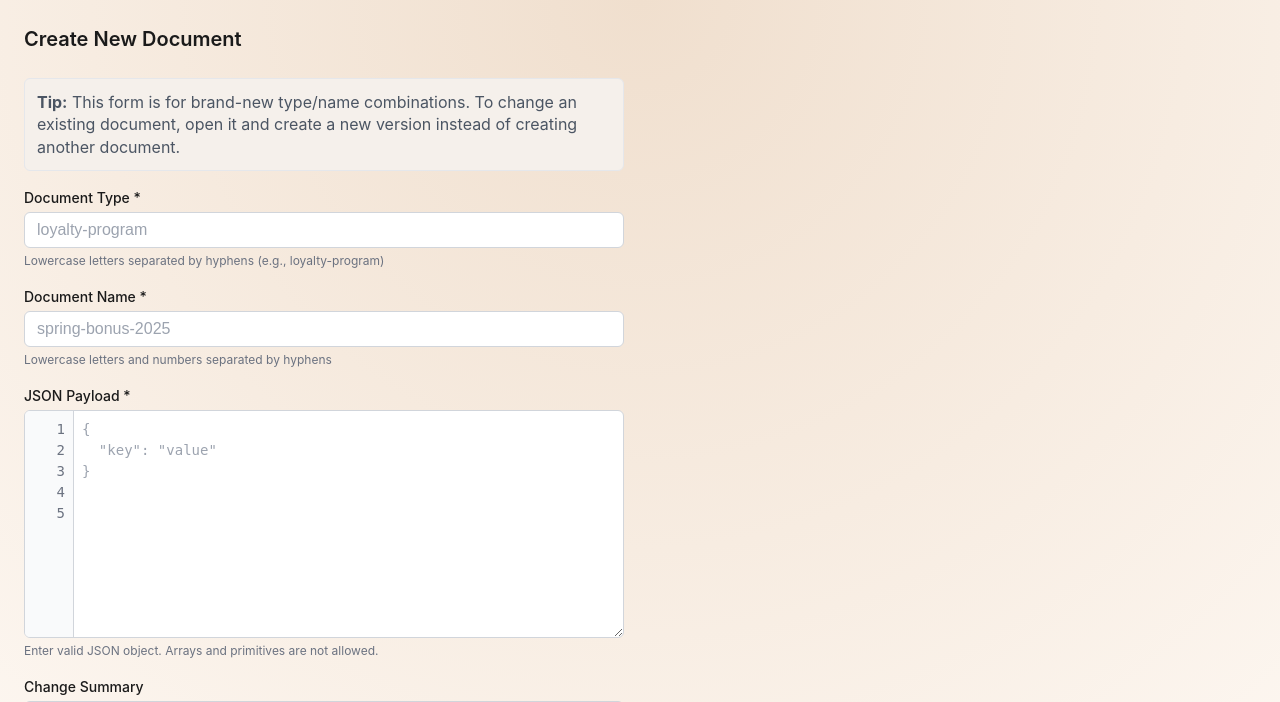
CreateDocumentForm › field validation - document type (kebab-case) › shows error for invalid type format - uppercase letters
The width and height of the screenshot is (1280, 702).
Type "InvalidType" into the field labelled "Document Type *" at (324, 230), box [24,212,624,248]
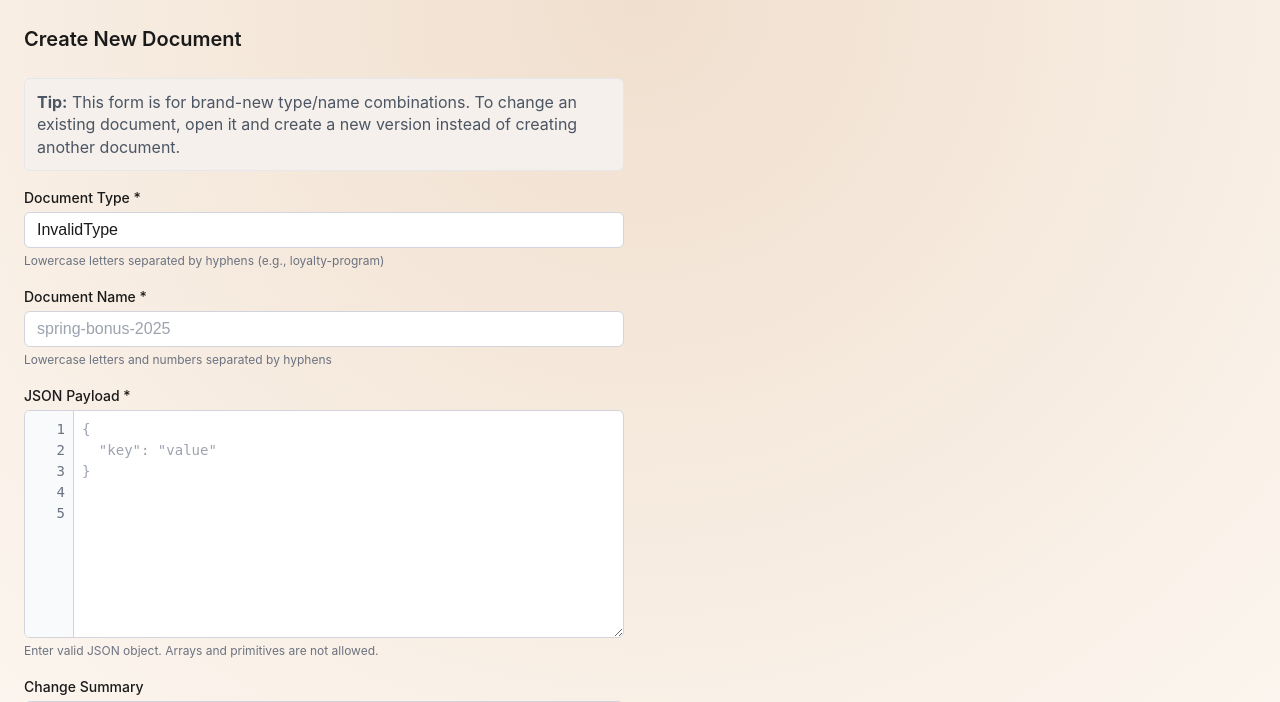
Leave the field labelled "Document Type *", box [24,212,624,248]
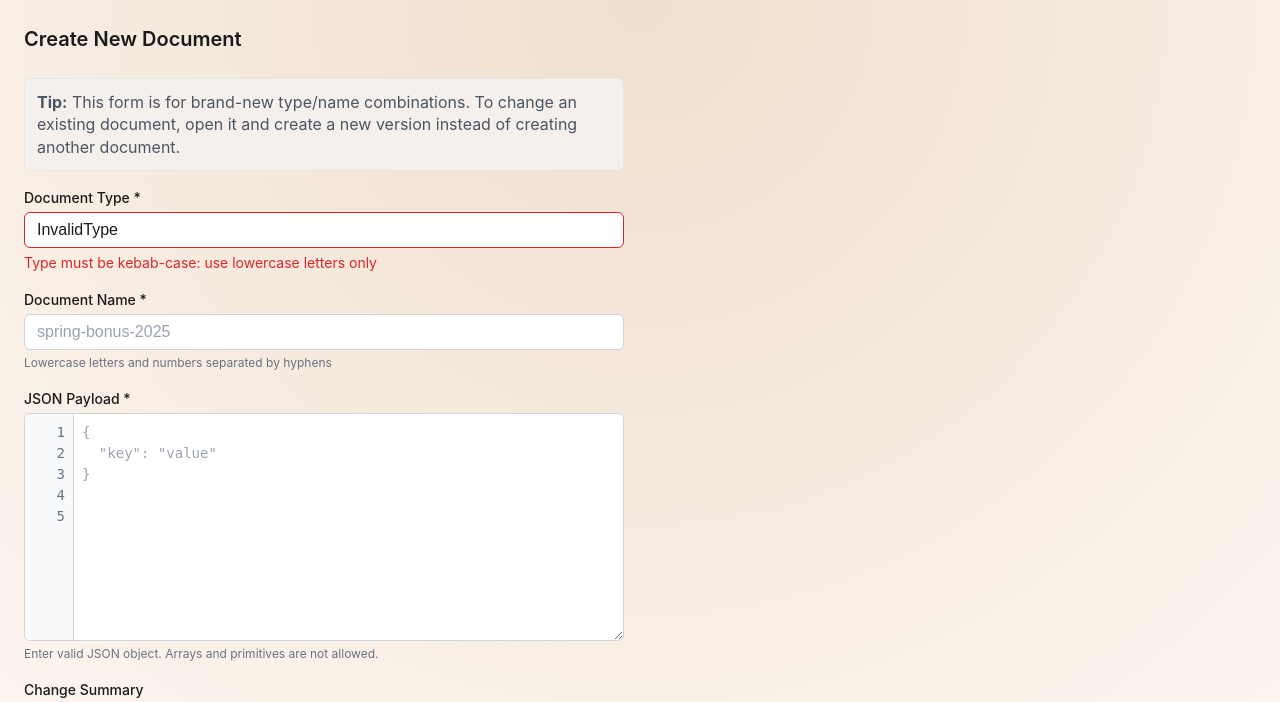
Check: the text "Type must be kebab-case: use lowercase letters only" is shown, box [24,254,377,271]
